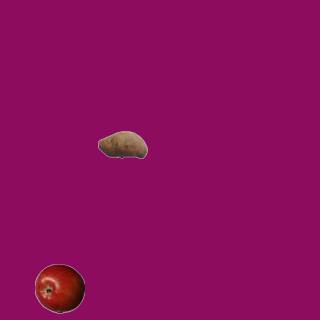Apple Braeburn: (34, 263, 84, 313)
Potato Sweet: (97, 119, 147, 169)
